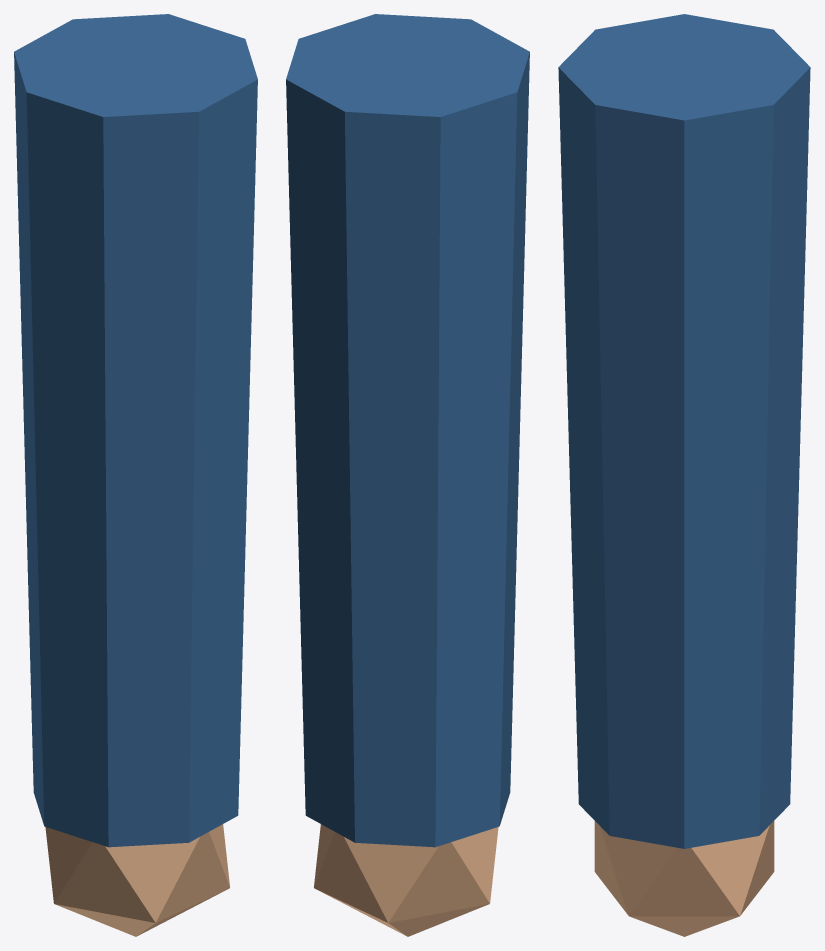
The model's file is insan_e2s_kol.glb.
The picture shows the model from 3 angles, left to right: view 1: azimuth 30°, elevation 25°; view 2: azimuth 150°, elevation 25°; view 3: azimuth 270°, elevation 25°; orthographic projection.
Parts seen in each view (by area): view 1: Cone; view 2: Cone; view 3: Cone.
Boxes of the visible parts, x1,y1,x2,y2 form: Cone: [14, 14, 257, 936]; Cone: [286, 14, 529, 936]; Cone: [558, 14, 810, 936].
Bounding box in the file's own units: 0.031 × 0.118 × 0.031.
